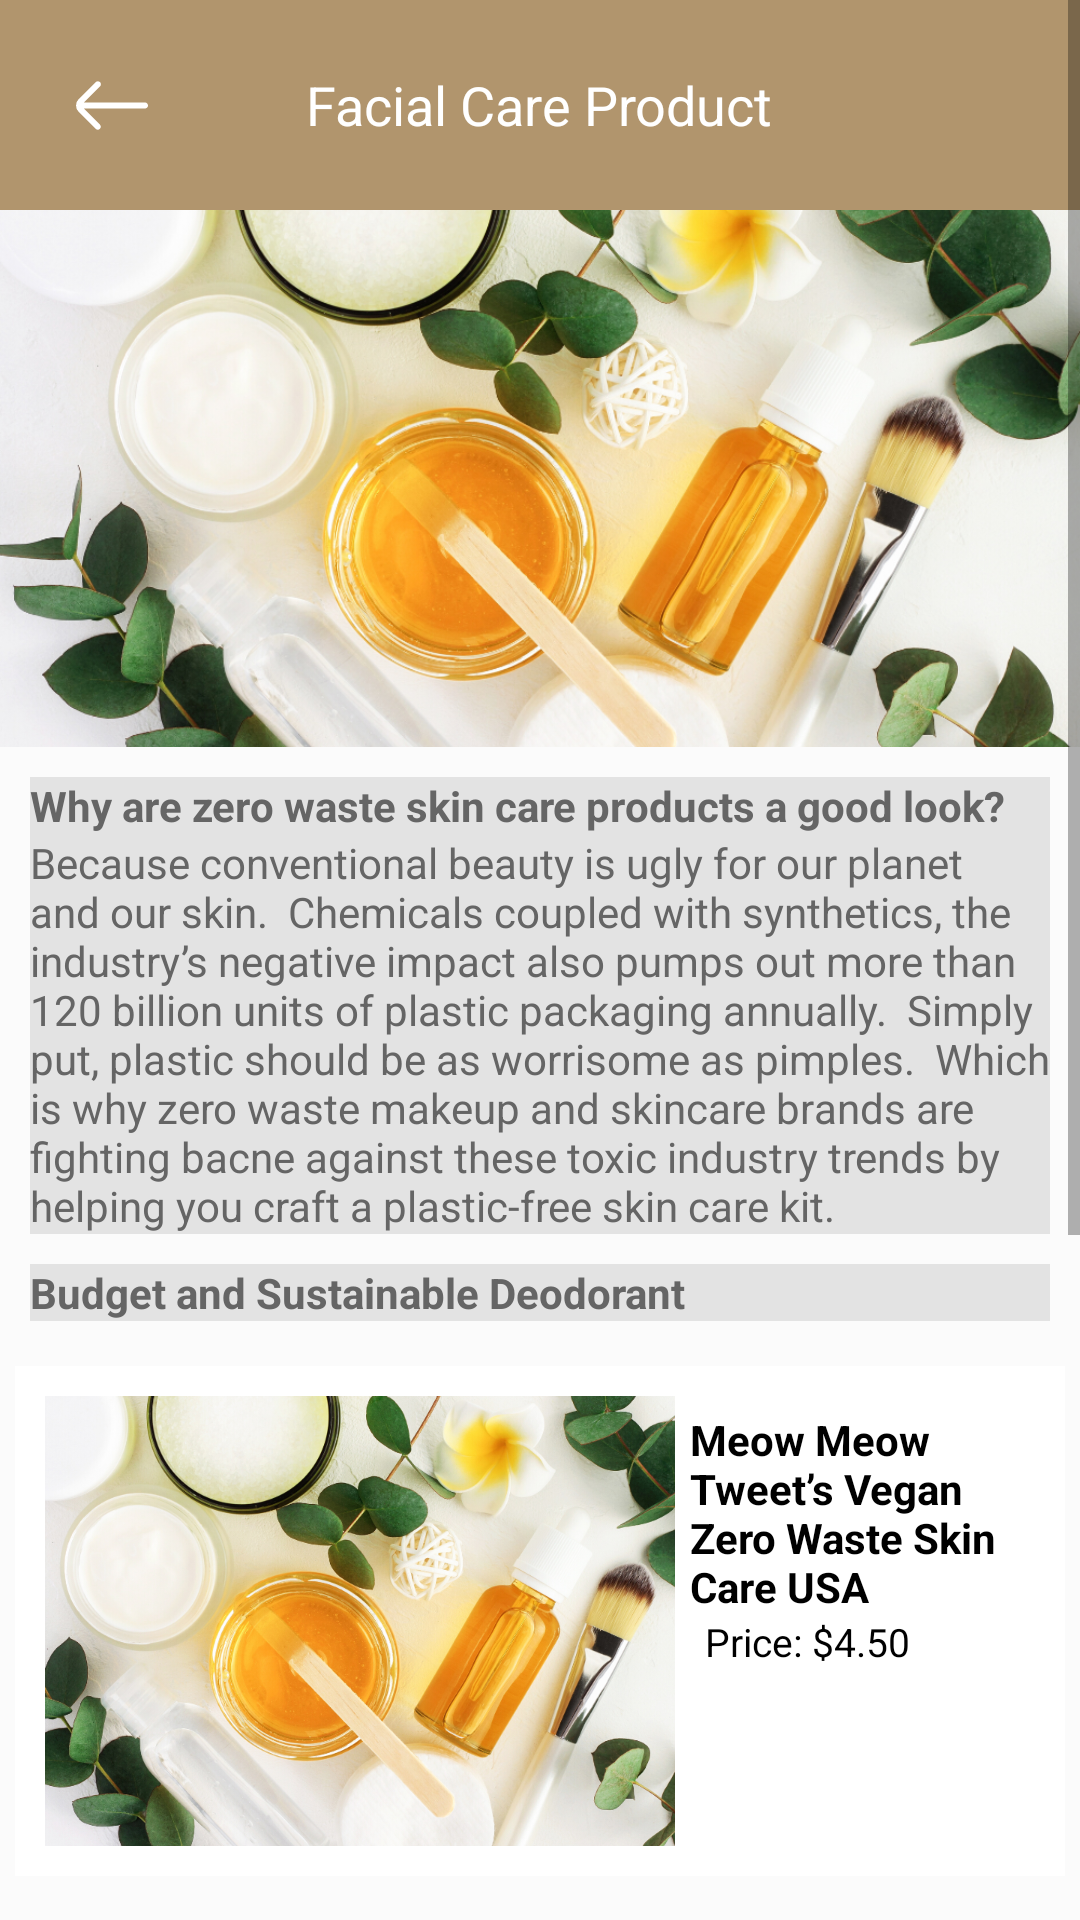

Named icons in this screenshot (1080×1920) and their bounding boxes, bbox=[x1, y1, x2, y2]:
return: bbox=[76, 81, 148, 130]
